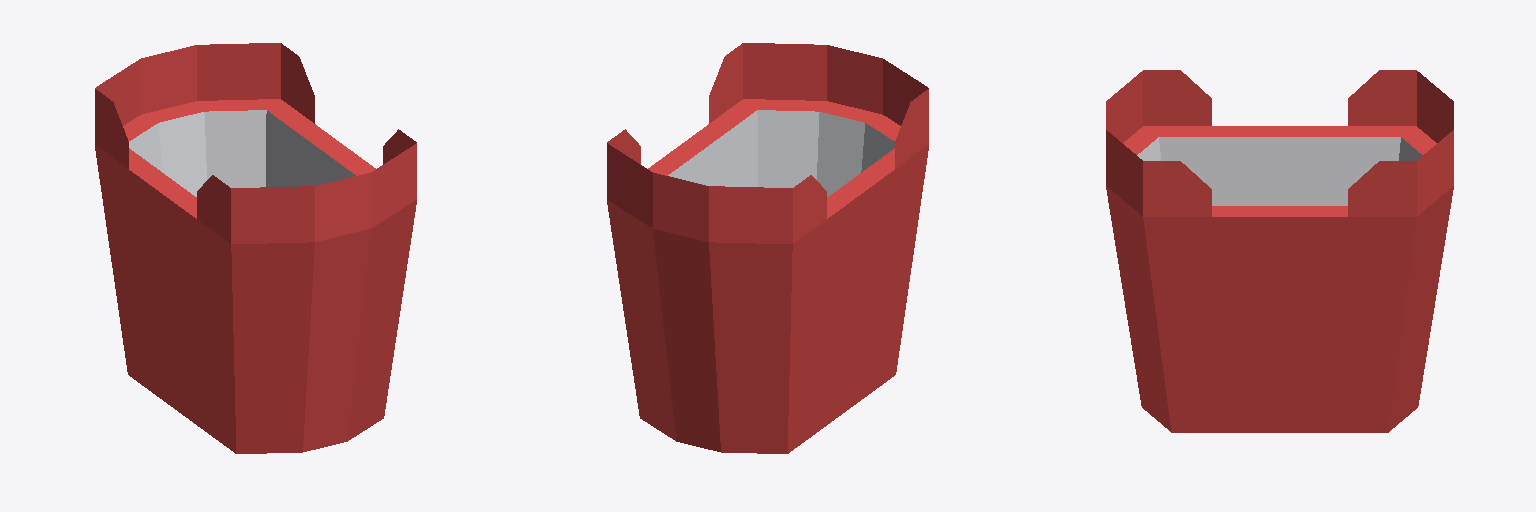
The model's file is friesEmpty.obj.
3 views of the same model, side by side, from view 1: azimuth 30°, elevation 25°; view 2: azimuth 150°, elevation 25°; view 3: azimuth 270°, elevation 25° (orthographic).
Parts seen in each view (by area): view 1: friesEmpty; view 2: friesEmpty; view 3: friesEmpty.
Boxes of the visible parts, <box> form: friesEmpty: <box>95,43,416,453</box>; friesEmpty: <box>607,43,928,453</box>; friesEmpty: <box>1106,70,1453,432</box>.
Bounding box in the file's own units: 0.1635 × 0.236 × 0.2653.